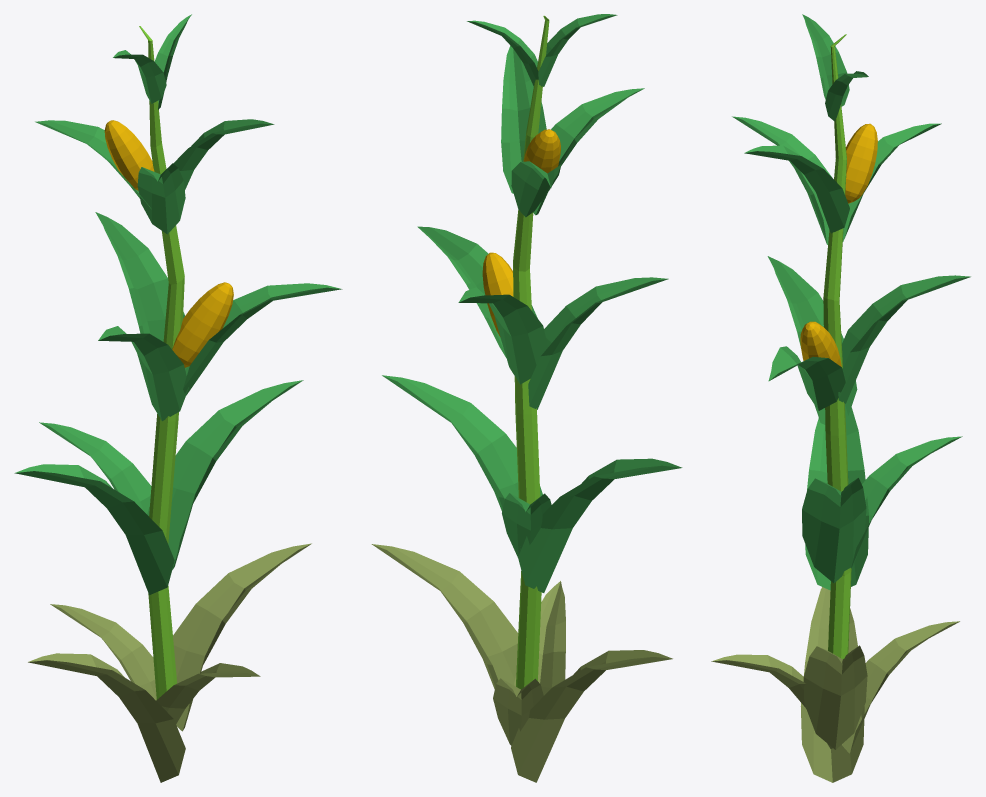
File: Maiz.fbx
3 views of the same model, side by side, from view 1: azimuth 30°, elevation 25°; view 2: azimuth 150°, elevation 25°; view 3: azimuth 270°, elevation 25° (orthographic). The views are drawn at different scales.
Parts seen in each view (by area): view 1: Maiz.000, Plane.004, Plane.013, Plane.003, Plane.012, Plane.006, Plane.005, Plane.017, Plane.011, Plane.014, Sphere.003, Plane.016 (+6 smaller); view 2: Maiz.000, Plane.013, Plane.012, Plane.003, Plane.004, Plane.005, Plane.006, Plane.008, Plane.015, Plane.017, Plane.016, Plane.014 (+6 smaller); view 3: Maiz.000, Plane.004, Plane.013, Plane.012, Plane.006, Plane.003, Plane.017, Plane.008, Plane.014, Plane.005, Plane.011, Sphere.002 (+6 smaller).
Boxes of the visible parts, left/top/right/bottom form: Maiz.000: left=139, top=26, right=184, bottom=699; Plane.004: left=147, top=380, right=303, bottom=569; Plane.013: left=173, top=543, right=311, bottom=731; Plane.003: left=14, top=464, right=174, bottom=594; Plane.012: left=28, top=653, right=185, bottom=782; Plane.006: left=95, top=212, right=184, bottom=341; Plane.005: left=98, top=326, right=188, bottom=421; Plane.017: left=183, top=283, right=342, bottom=395; Plane.011: left=39, top=422, right=151, bottom=513; Plane.014: left=50, top=604, right=156, bottom=700; Sphere.003: left=172, top=282, right=233, bottom=367; Plane.016: left=137, top=163, right=185, bottom=234; Maiz.000: left=513, top=15, right=549, bottom=689; Plane.013: left=371, top=544, right=518, bottom=689; Plane.012: left=511, top=650, right=672, bottom=782; Plane.003: left=518, top=458, right=682, bottom=592; Plane.004: left=382, top=375, right=542, bottom=549; Plane.005: left=528, top=277, right=668, bottom=409; Plane.006: left=458, top=287, right=547, bottom=384; Plane.008: left=501, top=46, right=546, bottom=193; Plane.015: left=514, top=581, right=565, bottom=695; Plane.017: left=417, top=226, right=537, bottom=358; Plane.016: left=533, top=88, right=644, bottom=215; Plane.014: left=493, top=678, right=543, bottom=745; Maiz.000: left=823, top=34, right=851, bottom=659; Plane.004: left=802, top=478, right=866, bottom=583; Plane.013: left=803, top=645, right=867, bottom=749; Plane.012: left=800, top=587, right=864, bottom=782; Plane.006: left=838, top=275, right=970, bottom=403; Plane.003: left=805, top=407, right=868, bottom=590; Plane.017: left=768, top=346, right=845, bottom=410; Plane.008: left=744, top=145, right=849, bottom=233; Plane.014: left=842, top=621, right=959, bottom=753; Plane.005: left=767, top=256, right=857, bottom=424; Plane.011: left=851, top=436, right=962, bottom=567; Sphere.002: left=845, top=123, right=877, bottom=203.
Size of the model in its own units: 96.16 by 231 by 73.5.
